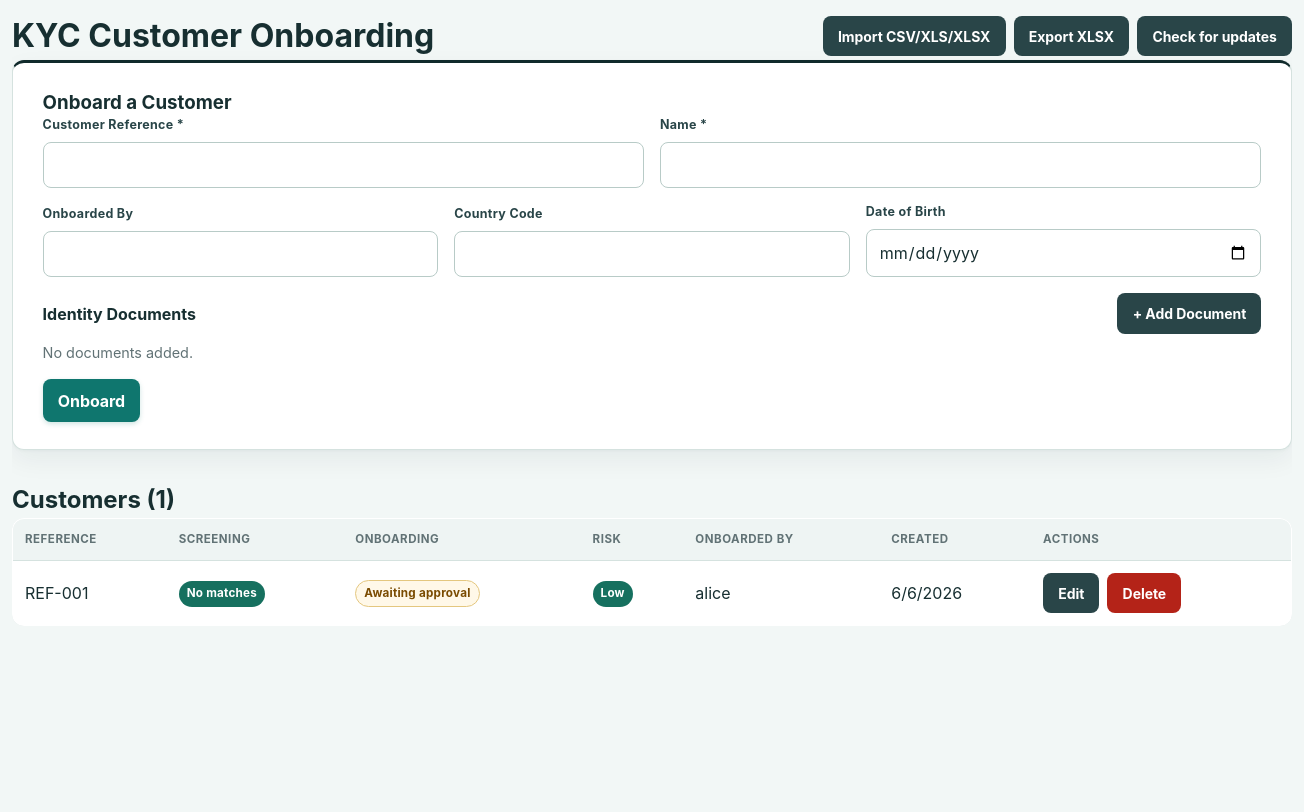
Scenario: CustomersPage › action error surfaces › surfaces an edit-save failure and does not re-screen
Expected: the text "REF-001" is shown, [12, 561, 167, 626]
Click the button with aria-label "edit REF-001". click: [1071, 593]
box: [1043, 573, 1100, 613]
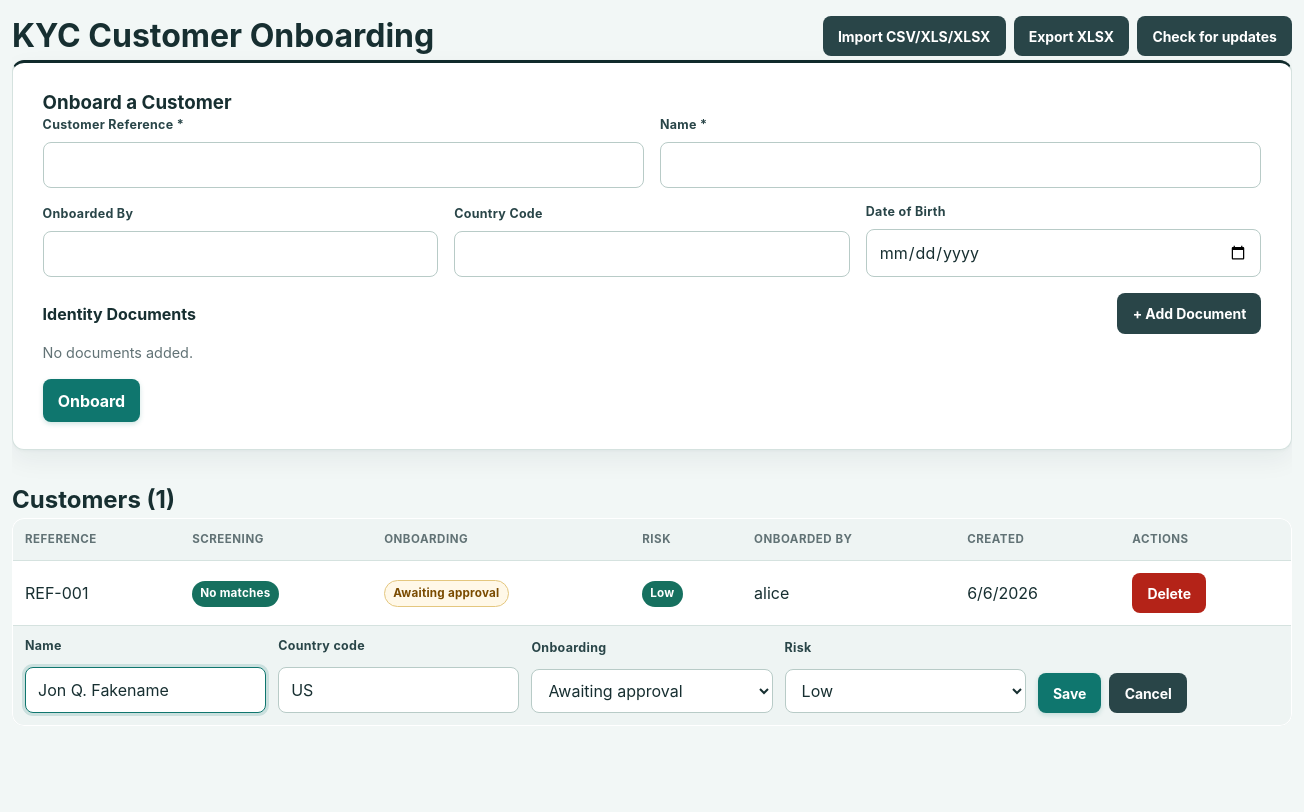
Replace the text in the field named "edit name for REF-001" with "Renamed". click: [146, 690]
box: [25, 666, 266, 713]
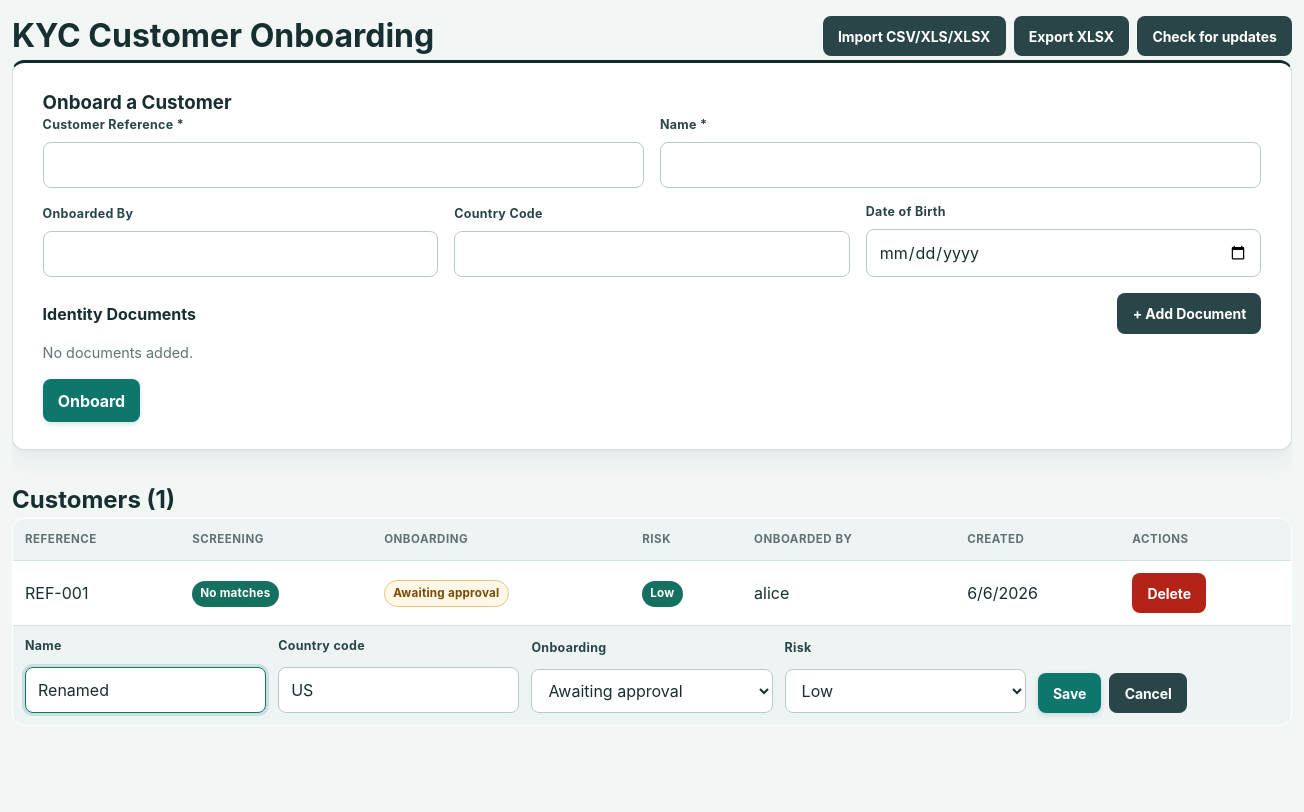
Click the button "Save". click: [1070, 693]
box: [1038, 673, 1101, 713]
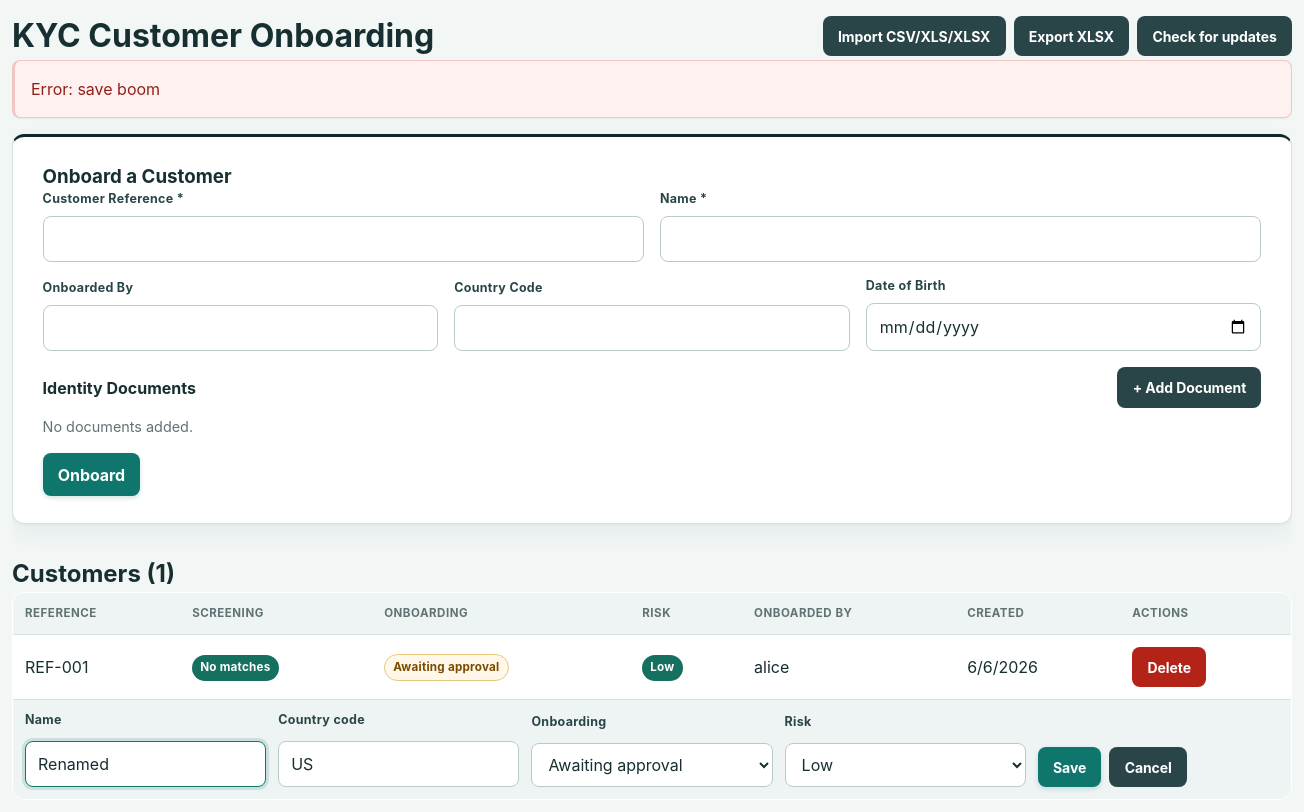
Result: the text "Error: save boom" is shown at [12, 60, 1292, 118]
